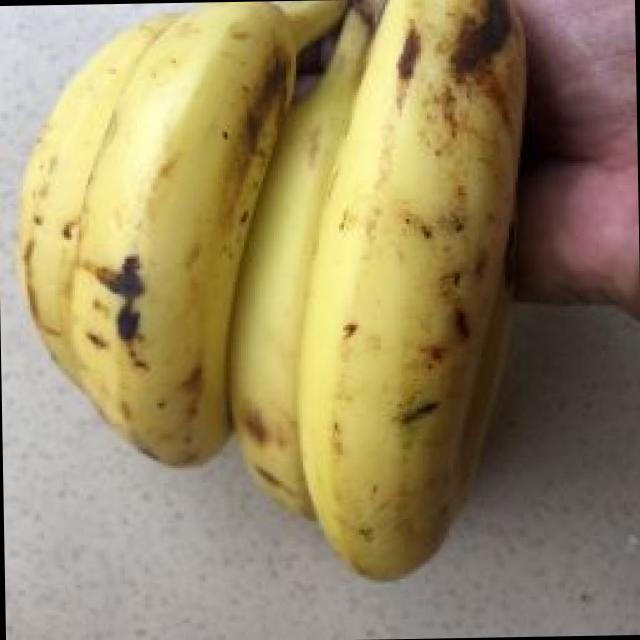banana: (70, 0, 519, 544)
